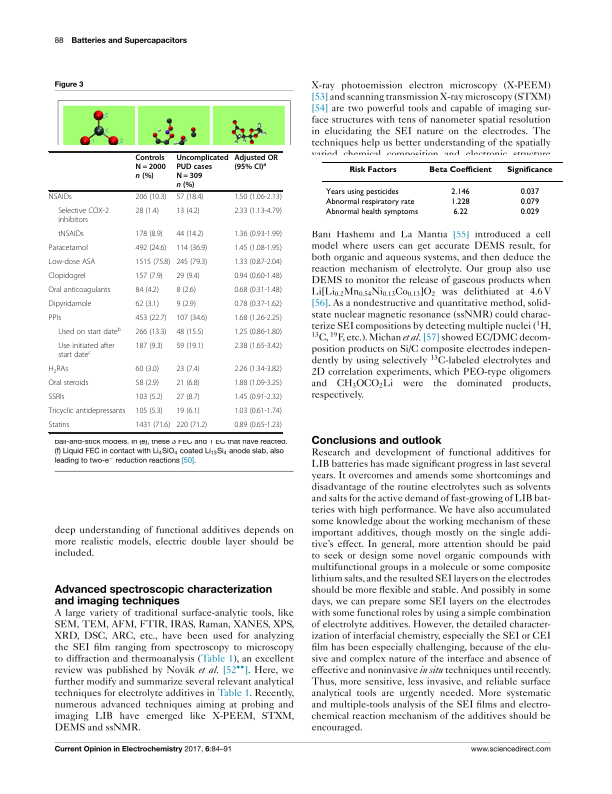borderless: (47, 150, 282, 432), (320, 160, 564, 225)
cell: (175, 154, 229, 190), (57, 342, 116, 361), (57, 207, 110, 226), (325, 207, 419, 217), (325, 197, 415, 207), (134, 154, 167, 181), (233, 154, 279, 172), (57, 326, 122, 338), (48, 407, 126, 417), (325, 187, 399, 196), (48, 286, 111, 296), (428, 165, 492, 174), (233, 193, 283, 203), (233, 207, 283, 217), (233, 230, 283, 240), (233, 244, 283, 254), (233, 258, 283, 268), (233, 272, 283, 282), (233, 286, 283, 296), (233, 300, 283, 310), (233, 314, 283, 324), (233, 328, 283, 338), (233, 342, 283, 352), (233, 365, 283, 375), (233, 379, 283, 389), (233, 393, 283, 403), (233, 407, 283, 417), (233, 421, 283, 431), (48, 258, 96, 268), (348, 165, 397, 174), (48, 300, 92, 310), (506, 165, 553, 174), (48, 244, 89, 254), (48, 379, 89, 389), (48, 272, 87, 282), (134, 258, 171, 268), (134, 421, 171, 431), (134, 193, 167, 203), (134, 244, 167, 254), (175, 244, 208, 254), (175, 258, 208, 268), (134, 314, 167, 324), (175, 314, 208, 324), (134, 328, 167, 338), (175, 421, 208, 431), (134, 230, 164, 240), (134, 272, 164, 282), (134, 342, 164, 352), (134, 393, 164, 403), (134, 407, 164, 417), (175, 193, 204, 203), (175, 230, 204, 240), (175, 328, 204, 338), (175, 342, 204, 352), (57, 230, 85, 240), (134, 207, 160, 217), (134, 286, 160, 296), (134, 300, 160, 310), (134, 365, 160, 375), (134, 379, 160, 389), (48, 193, 73, 203), (175, 207, 200, 217), (175, 272, 200, 282), (175, 365, 200, 375), (175, 379, 200, 389), (175, 393, 200, 403), (175, 407, 200, 417), (175, 286, 197, 296), (175, 300, 197, 310), (47, 365, 69, 375), (48, 421, 70, 431), (519, 197, 540, 207), (519, 207, 540, 217), (450, 197, 470, 207), (519, 187, 540, 196), (450, 187, 470, 196), (48, 393, 65, 403), (452, 207, 468, 217), (48, 314, 62, 324)
